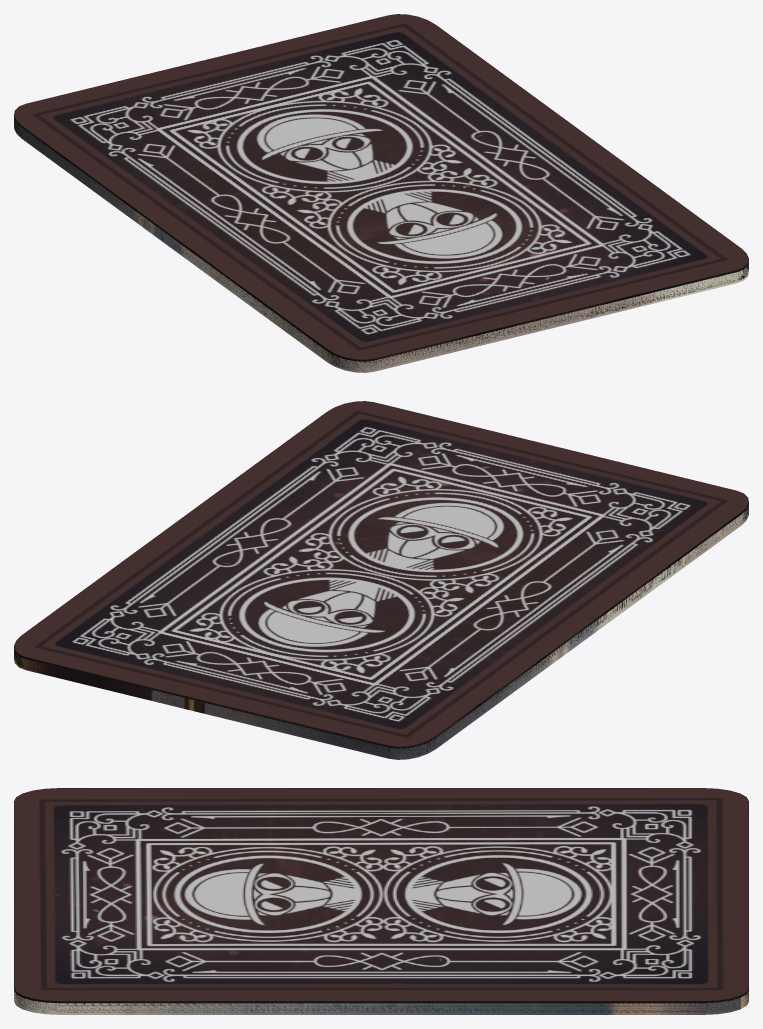
File: aceof_wands_tarot.glb
3 views of the same model, one above another, from view 1: azimuth 30°, elevation 25°; view 2: azimuth 150°, elevation 25°; view 3: azimuth 270°, elevation 25° (orthographic). The views are drawn at different scales.
Parts seen in each view (by area): view 1: Plane.002, Plane.001; view 2: Plane.002, Plane.001; view 3: Plane.002, Plane.001.
Boxes of the visible parts, x1,y1,x2,y2 form: Plane.002: (14, 14, 748, 370); Plane.001: (14, 118, 748, 372); Plane.002: (14, 401, 748, 756); Plane.001: (14, 505, 748, 759); Plane.002: (14, 788, 748, 1012); Plane.001: (14, 990, 748, 1014).
Size of the model in its own units: 2.28 by 0.0684 by 3.32.
Materials: 2 (2 with a texture image).
